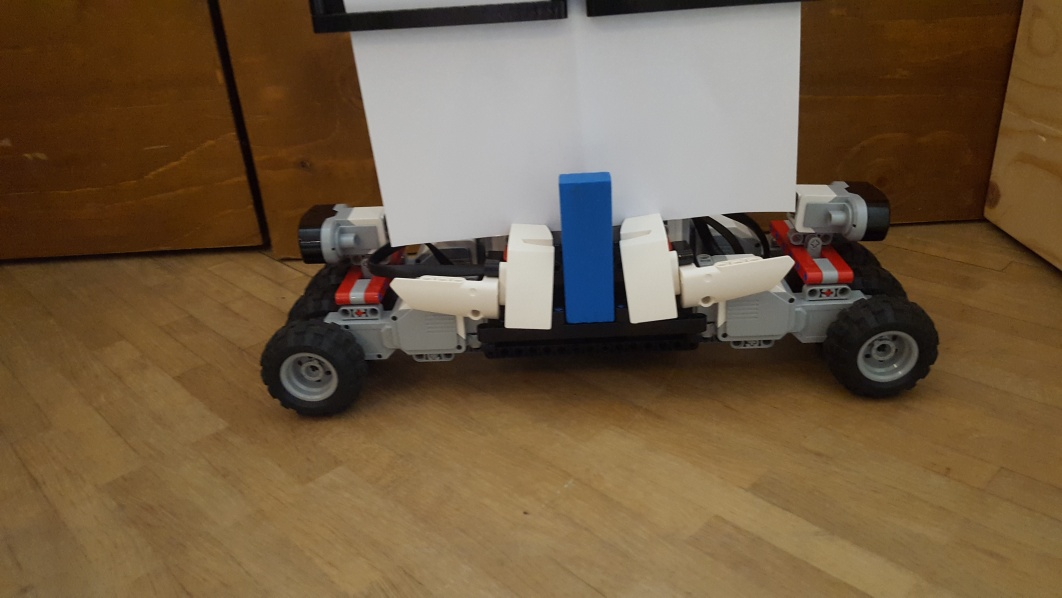beam: (557, 168, 619, 325)
